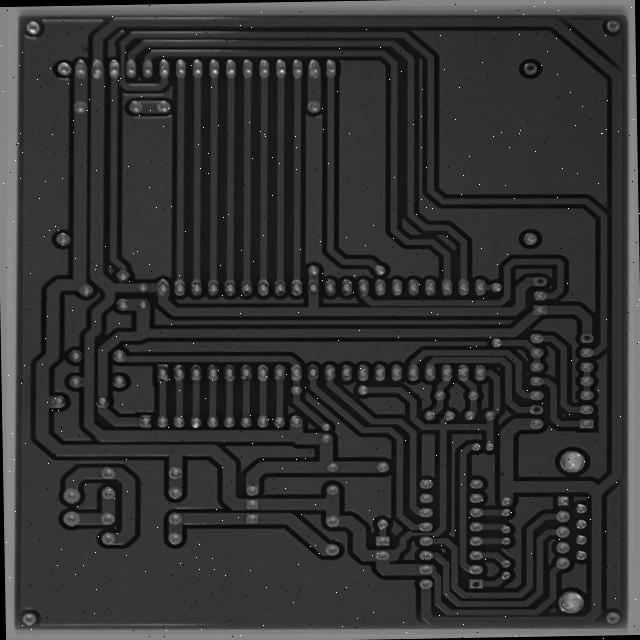missing_hole: (580, 324, 603, 343), (518, 52, 540, 69), (534, 268, 552, 284), (474, 576, 493, 591), (533, 399, 550, 414)
